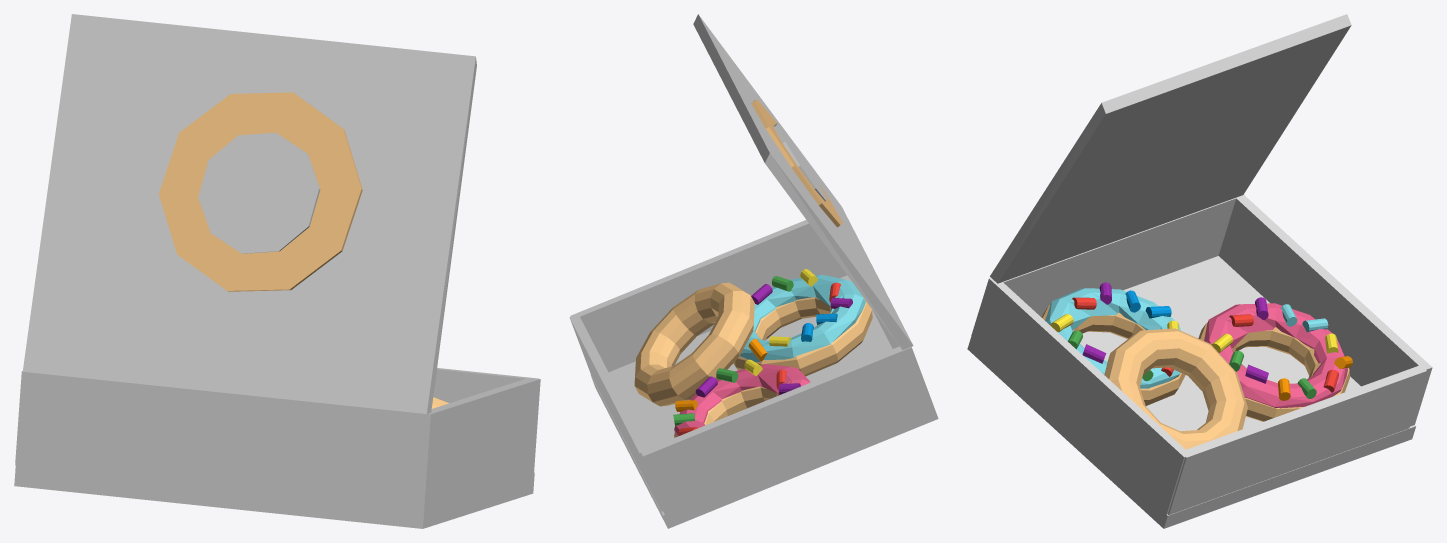
Rendered from Donutbox.fbx.
3 views of the same model, side by side, from view 1: azimuth 30°, elevation 25°; view 2: azimuth 150°, elevation 25°; view 3: azimuth 270°, elevation 25° (orthographic). The views are drawn at different scales.
Visible parts, largest first — view 1: mesh_849833827, mesh_1952452298, group_1182562702, mesh_1085159625, mesh_297281961, group_1280584653, mesh_1599891818, mesh_2139404716; view 2: mesh_2139404716, mesh_1085159625, mesh_297281961, group_1753688524, mesh_1973894518, mesh_849833827, group_1120425736, mesh_1599891818, group_1182562702, mesh_1952452298, group_1280584653; view 3: mesh_849833827, mesh_297281961, mesh_1085159625, mesh_1599891818, mesh_2139404716, group_1120425736, mesh_1952452298, mesh_1973894518, group_1753688524.
Boxes of the visible parts, x1,y1,x2,y2 form: mesh_849833827: (22,14,476,413); mesh_1952452298: (15,371,419,506); group_1182562702: (159,92,362,291); mesh_1085159625: (412,378,540,507); mesh_297281961: (14,465,534,528); group_1280584653: (198,132,320,253); mesh_1599891818: (433,368,537,403); mesh_2139404716: (15,371,36,466); mesh_2139404716: (641,346,923,514); mesh_1085159625: (570,220,846,372); mesh_297281961: (590,275,938,528); group_1753688524: (733,269,872,376); mesh_1973894518: (634,282,754,406); mesh_849833827: (693,14,913,350); group_1120425736: (673,359,810,437); mesh_1599891818: (569,316,662,511); group_1182562702: (751,99,842,227); mesh_1952452298: (873,310,933,409); group_1280584653: (773,123,826,201); mesh_849833827: (990,14,1351,283); mesh_297281961: (967,256,1416,528); mesh_1085159625: (971,278,1190,514); mesh_1599891818: (1168,365,1426,514); mesh_2139404716: (1218,195,1432,426); group_1120425736: (1198,297,1352,421); mesh_1952452298: (999,194,1244,317); mesh_1973894518: (1104,328,1247,449); group_1753688524: (1041,282,1185,405).
Bounding box in the file's own units: 55.78 × 52.56 × 55.84.
